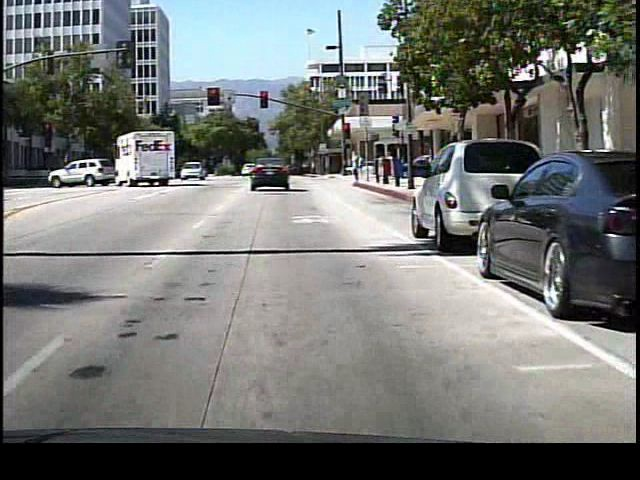person: (346, 149, 365, 188)
